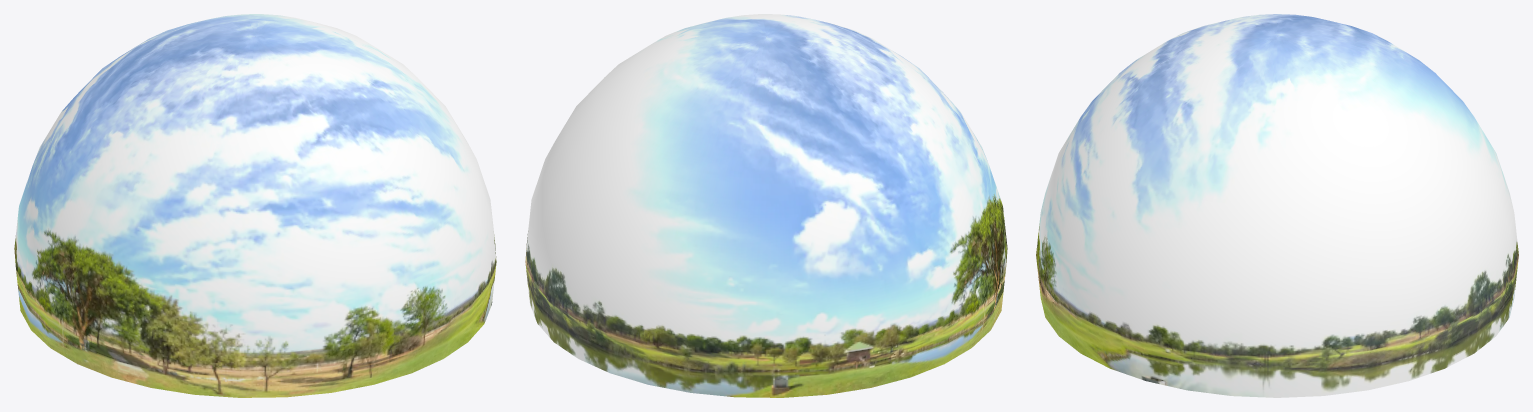
File: Merry meadow.glb
3 views of the same model, side by side, from view 1: azimuth 30°, elevation 25°; view 2: azimuth 150°, elevation 25°; view 3: azimuth 270°, elevation 25° (orthographic).
Visible parts, largest first — view 1: Sphere.001; view 2: Sphere.001; view 3: Sphere.001.
Boxes of the visible parts, <box> form: Sphere.001: <box>14,14,496,397</box>; Sphere.001: <box>525,14,1007,397</box>; Sphere.001: <box>1036,14,1518,397</box>.
Bounding box in the file's own units: 51.36 × 30.69 × 51.36.
18 materials, 9 textured.
